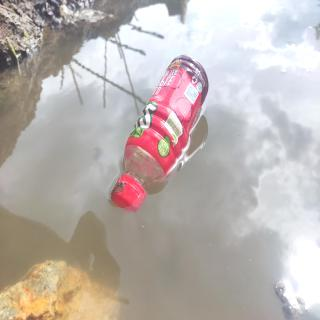bottle: (108, 48, 211, 215)
